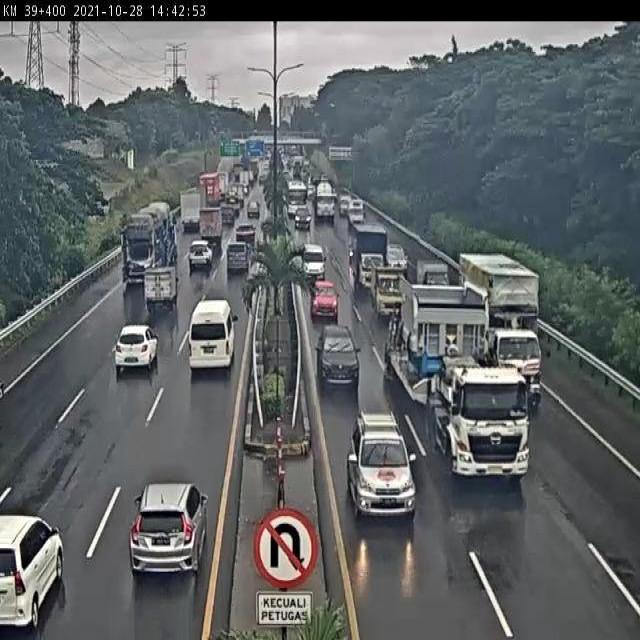big truck: (127, 202, 180, 286)
bus-s-: (301, 244, 326, 280)
car: (127, 480, 211, 576), (349, 412, 418, 521), (0, 520, 62, 628), (317, 327, 362, 397), (192, 292, 233, 359), (114, 325, 156, 375), (309, 280, 338, 319), (387, 241, 409, 280), (188, 241, 212, 272), (226, 240, 249, 272)
small truck: (143, 265, 179, 312)
truck-l-: (462, 255, 541, 408)
truck-m-: (353, 223, 387, 288), (375, 274, 410, 318)
truck-s-: (418, 257, 452, 287)
truck-xl-: (388, 287, 531, 477)
